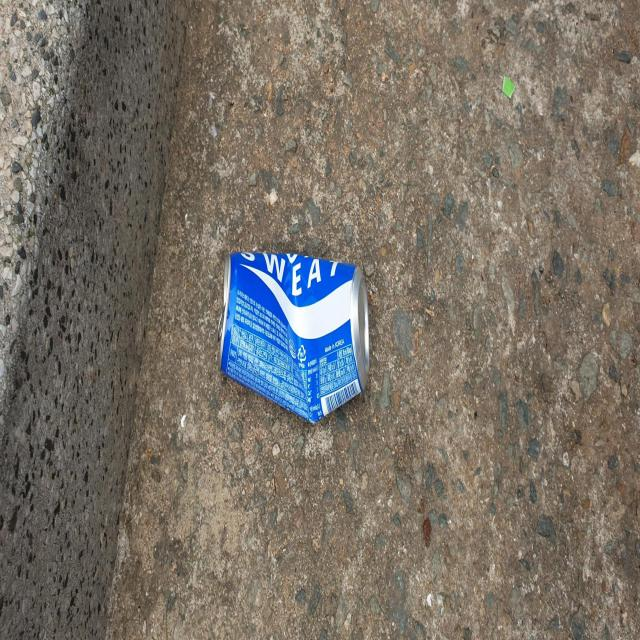can: (219, 251, 370, 422)
